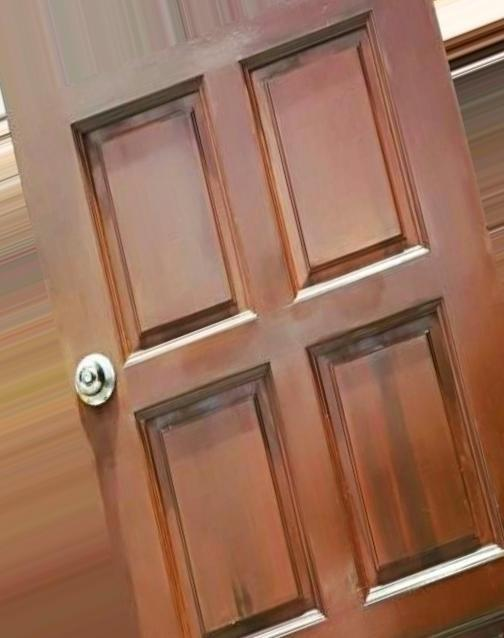door: (4, 0, 504, 638)
